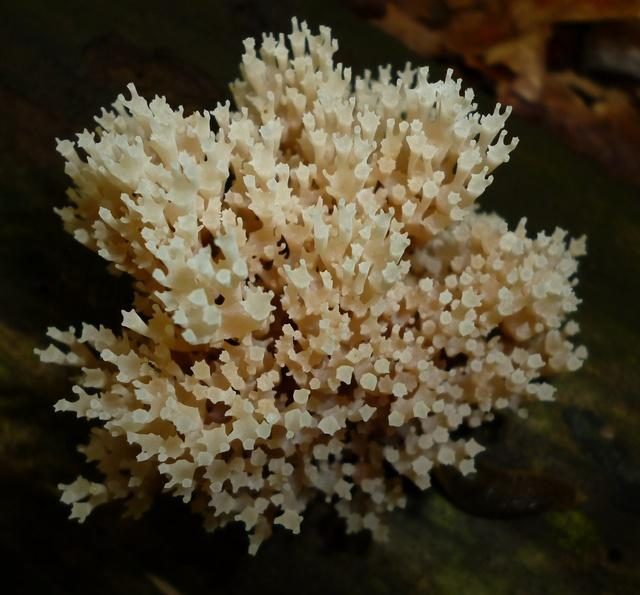edible_mushroom: (35, 15, 590, 556)
